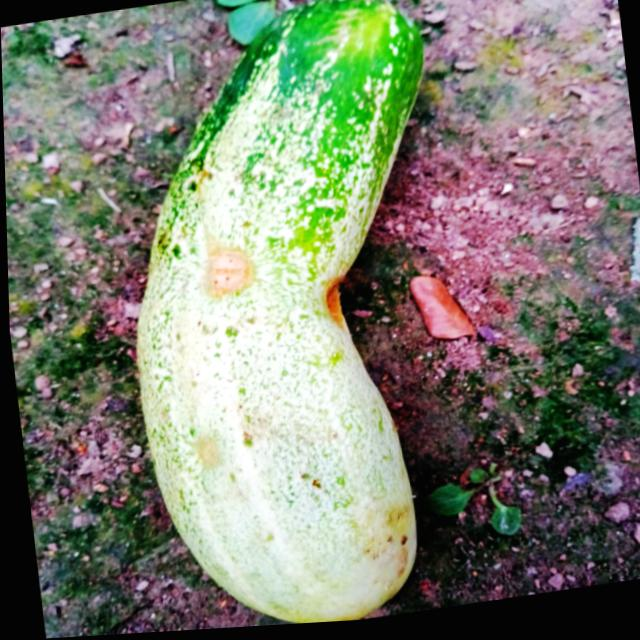Belly-Rot: (194, 230, 257, 311), (314, 273, 353, 349), (189, 426, 223, 482)
